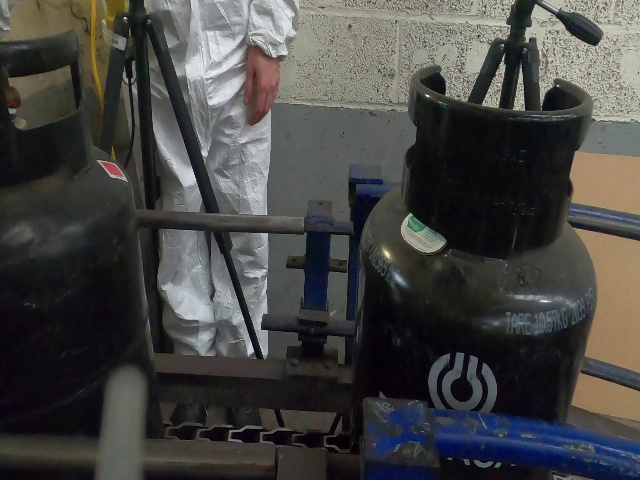gas_bottle: (0, 6, 631, 470)
